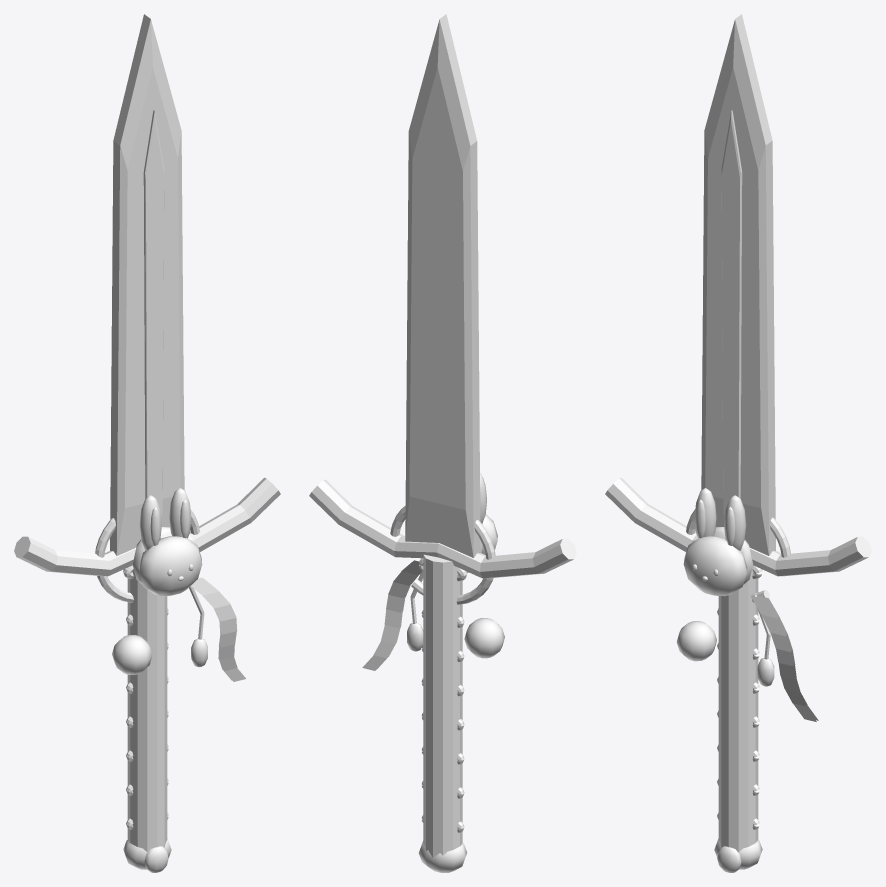
The model's file is sword.obj.
3 views of the same model, side by side, from view 1: azimuth 30°, elevation 25°; view 2: azimuth 150°, elevation 25°; view 3: azimuth 330°, elevation 25° (orthographic).
Size of the model in its own units: 0.3839 by 1.19 by 0.1131.
